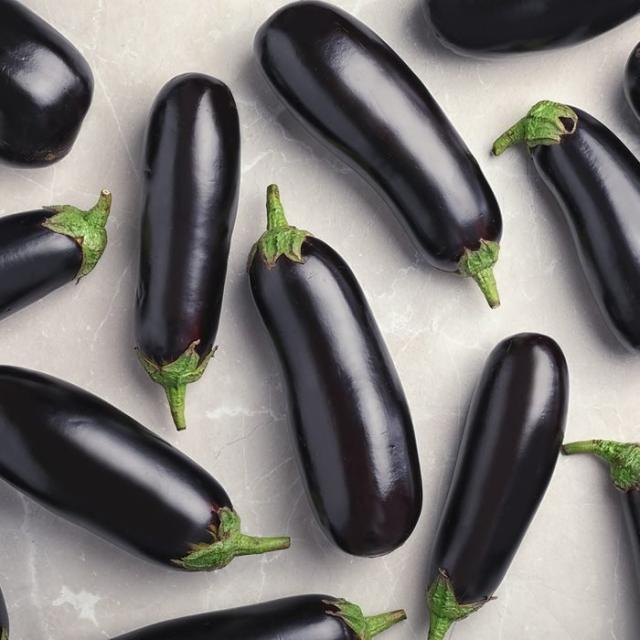eggplant: (258, 6, 500, 310), (250, 183, 423, 562), (2, 361, 284, 575), (416, 334, 563, 640), (493, 94, 640, 357), (136, 72, 239, 436), (0, 198, 104, 321)
